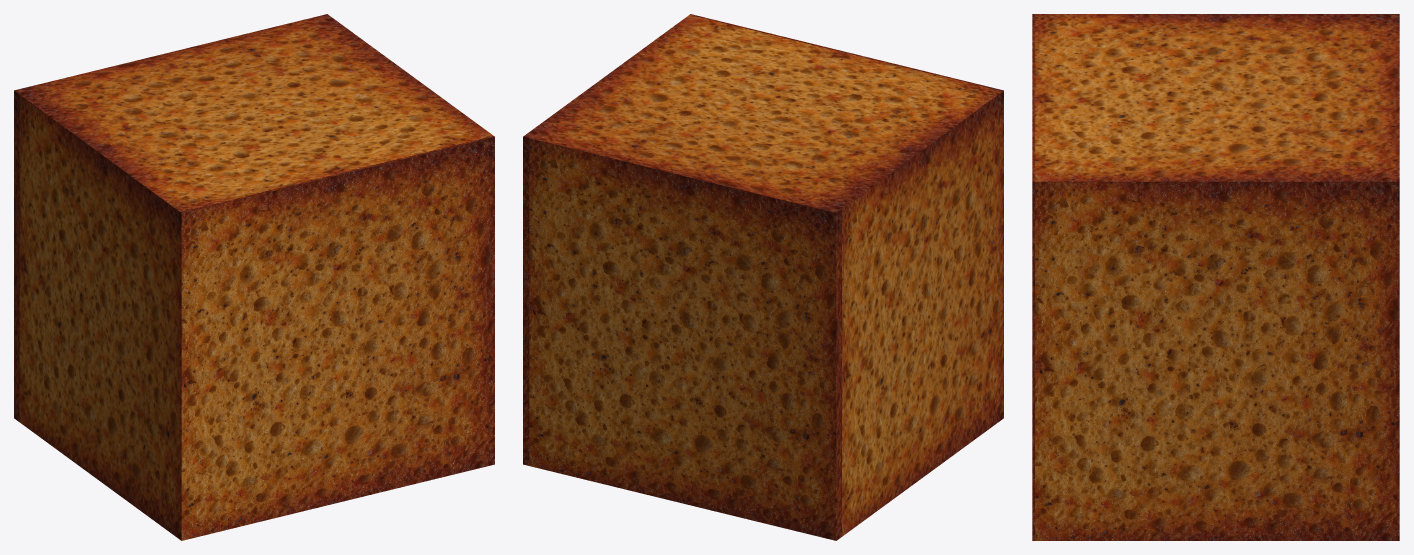
Rendered from kirieshka.fbx.
The picture shows the model from 3 angles, left to right: view 1: azimuth 30°, elevation 25°; view 2: azimuth 150°, elevation 25°; view 3: azimuth 270°, elevation 25°; orthographic projection. The views are drawn at different scales.
Visible parts, largest first — view 1: Cube; view 2: Cube; view 3: Cube.
Boxes of the visible parts, left/top/right/bottom form: Cube: left=14, top=14, right=494, bottom=540; Cube: left=523, top=14, right=1003, bottom=540; Cube: left=1032, top=14, right=1399, bottom=540.
Bounding box in the file's own units: 200 × 200 × 185.
1 material, 1 textured.
